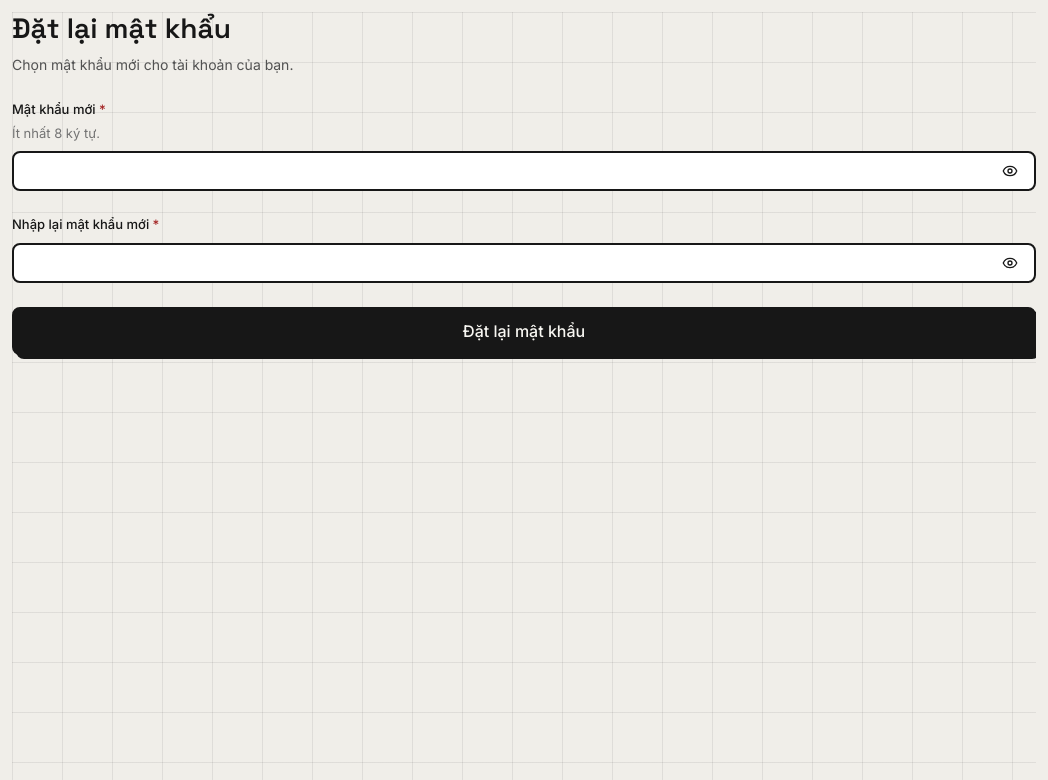
ResetPasswordForm › blocks submit and focuses the first invalid field
Click the button "Đặt lại mật khẩu" at coordinates (524, 331), box left=12, top=307, right=1036, bottom=355
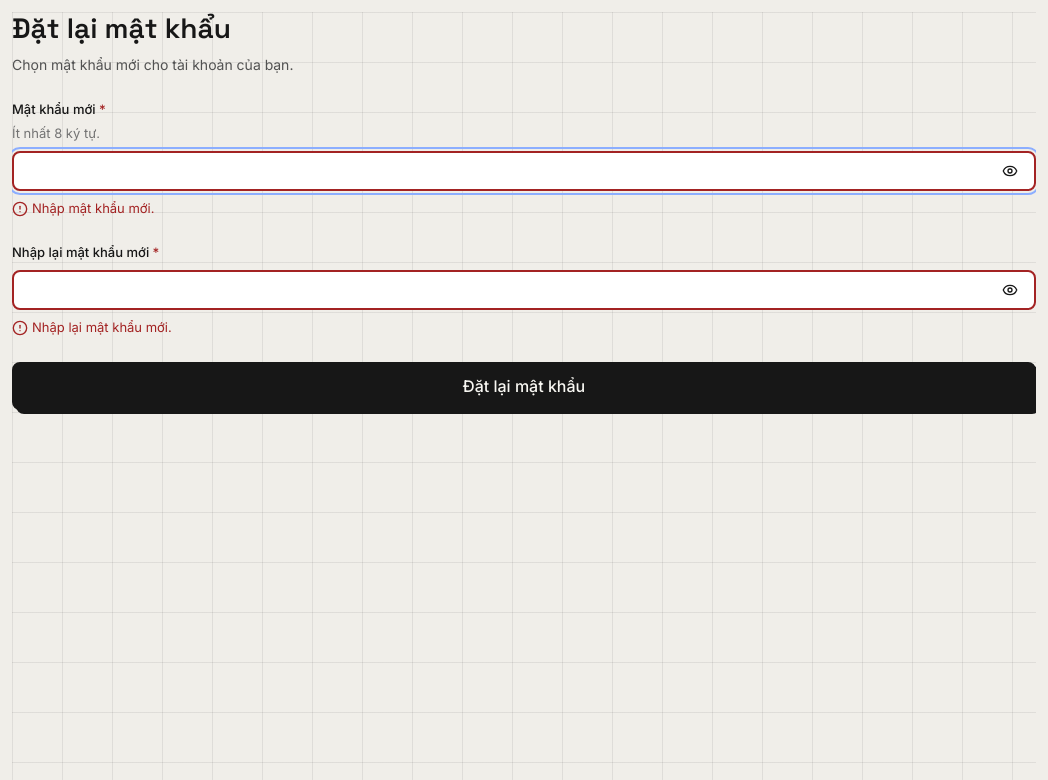
Expected: the text "Nhập mật khẩu mới." is shown, left=32, top=199, right=154, bottom=219
